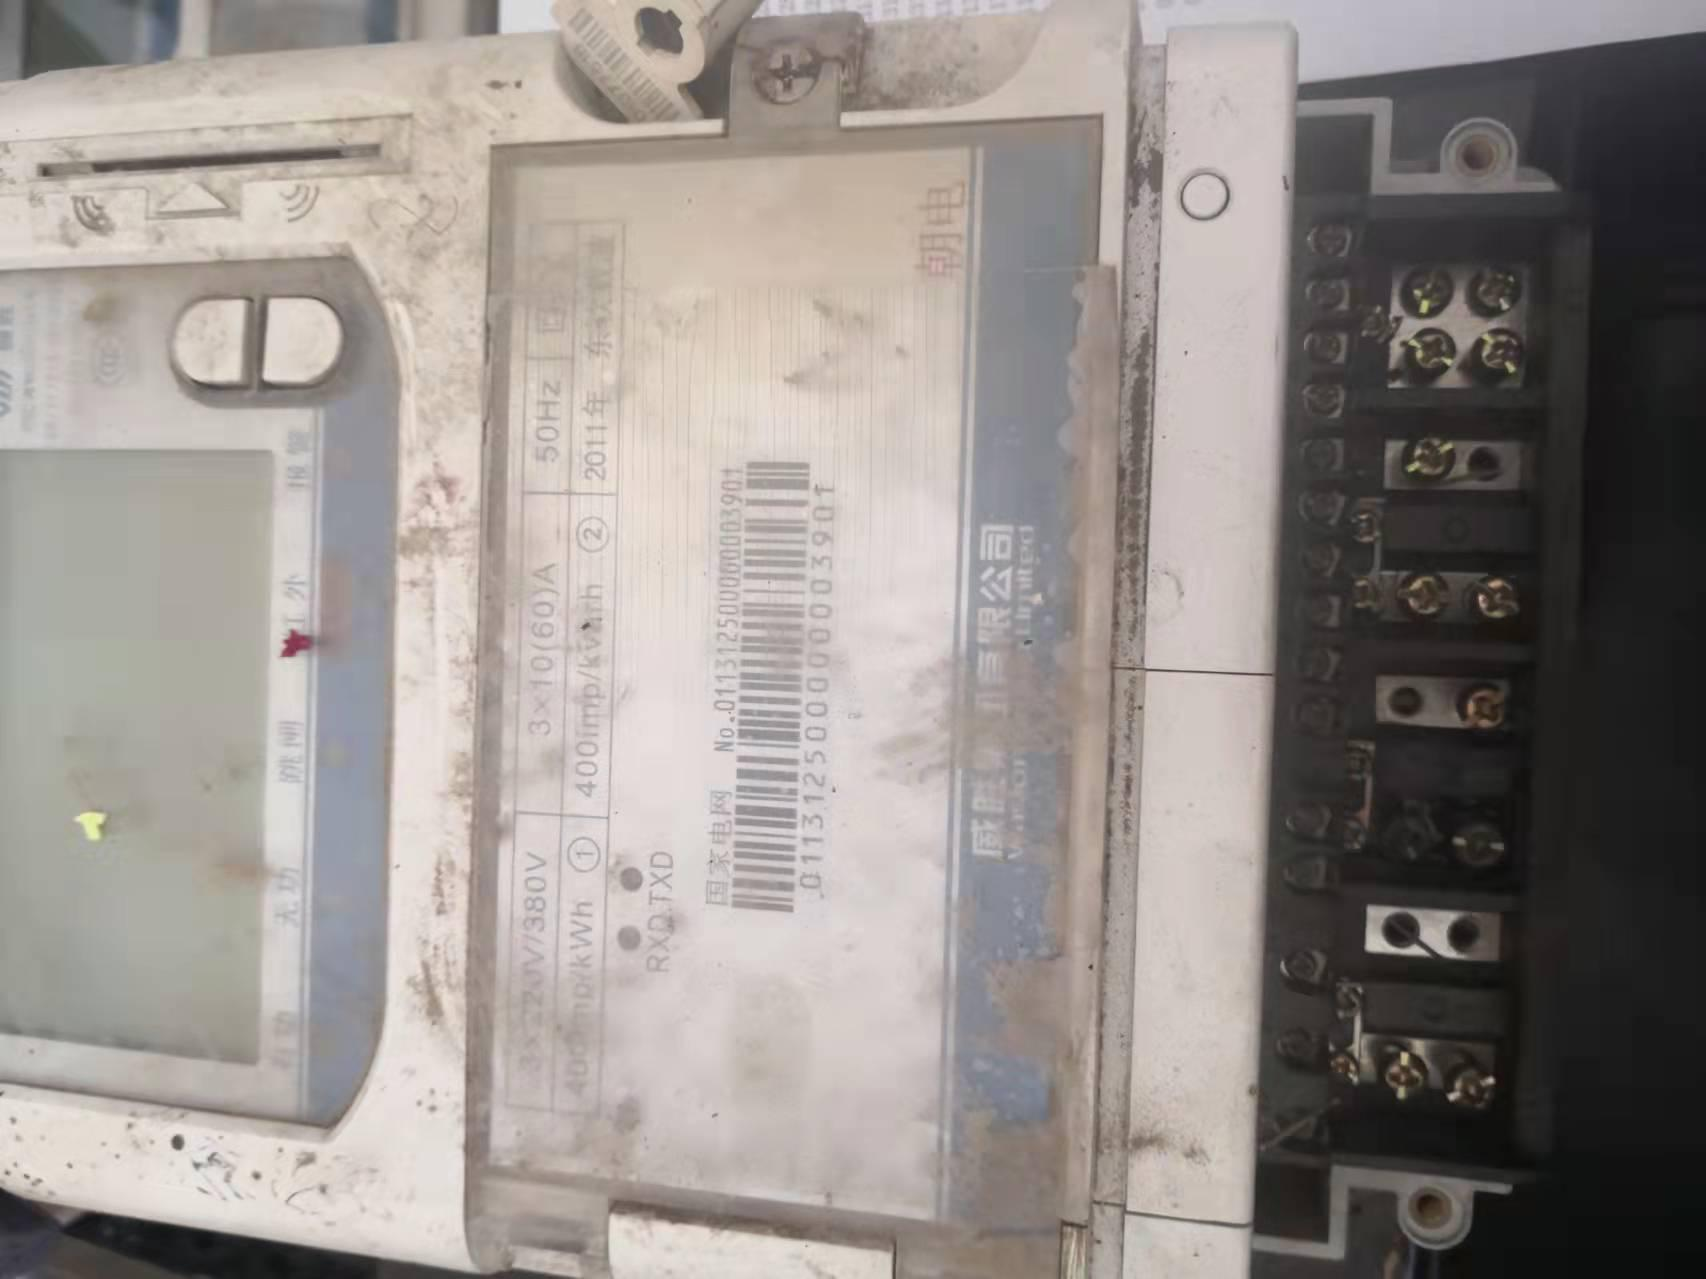digital: (1, 8, 1122, 1279)
